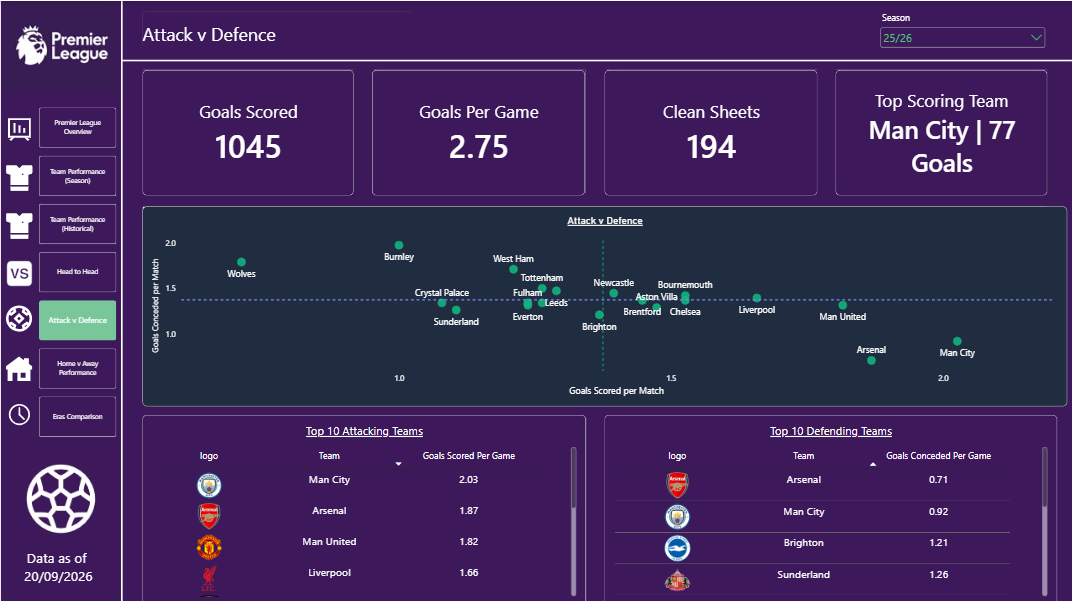

The dashboard page shown, as its layout file describes it:
{"tool":"powerbi","page":{"name":"Attack v Defence","canvas":[1920,1080],"ordinal":4},"visuals":[{"type":"slicer","fields":{"Values":["dim_season.season_name"]},"box":[1567.7,18.4,304.5,82.9],"z":7000},{"type":"textbox","box":[253.3,18.4,482.5,72.2],"z":8000},{"type":"cardVisual","fields":{"Data":["Sum(Season Analysis.GoalsFor)"]},"box":[253.7,123.5,377.2,225],"z":9000},{"type":"cardVisual","fields":{"Data":["MATCH_RESULTS.Goals Per Game"]},"box":[664.8,123.5,380.6,225],"z":10000},{"type":"cardVisual","fields":{"Data":["Sum(Season Analysis.CleanSheets)"]},"box":[1079.3,123.5,380.6,225],"z":11000},{"type":"cardVisual","fields":{"Data":["MATCH_RESULTS.Top Scoring Team"]},"box":[1492,123.5,378.9,225],"z":12000},{"type":"tableEx","title":"Top 10 Attacking Teams","fields":{"Values":["dim_team.logo","dim_team.team_name","Season Analysis.Goals_Per_Game"]},"box":[254,739.5,791.4,340.5],"z":13000},{"type":"scatterChart","title":"Attack v Defence","fields":{"Category":["Season Analysis.TEAM"],"X":["Season Analysis.Goals_Per_Game"],"Y":["Season Analysis.Goals_Conceded_Per_Game"]},"box":[254,367.1,1650.6,356.5],"z":14000},{"type":"tableEx","title":"Top 10 Defending Teams","fields":{"Values":["dim_team.logo","dim_team.team_name","Season Analysis.Goals_Conceded_Per_Game"]},"box":[1079.4,738.5,807.7,340.9],"z":15000},{"type":"textbox","box":[0,978.7,209,101.9],"z":15001},{"type":"pageNavigator","box":[69.2,188.9,138.3,594.5],"z":15002},{"type":"image","box":[0,292.6,69.2,46.6],"z":15003},{"type":"image","box":[0,377.7,69.2,46.6],"z":15004},{"type":"image","box":[0,206.2,69.2,46.6],"z":15005},{"type":"image","box":[0,544,68.6,46.7],"z":15006},{"type":"image","box":[0,634.4,68.6,46.7],"z":15007},{"type":"image","box":[0,715.6,69.2,46.9],"z":15008},{"type":"image","box":[0,462.9,69.2,46.9],"z":15009}]}

Visuals, with their boxes on the page's 1920x1080 design canvas (x1, y1, x2, y2). These are canvas units, not pixel positions in the 1072x601 screenshot, which may show the page scaled, cropped or inside an application window:
slicer - dim_season.season_name: [1568,18,1872,101]
textbox: [253,18,736,91]
cardVisual - Sum(Season Analysis.GoalsFor): [254,124,631,348]
cardVisual - MATCH_RESULTS.Goals Per Game: [665,124,1045,348]
cardVisual - Sum(Season Analysis.CleanSheets): [1079,124,1460,348]
cardVisual - MATCH_RESULTS.Top Scoring Team: [1492,124,1871,348]
"Top 10 Attacking Teams" tableEx: [254,740,1045,1080]
"Attack v Defence" scatterChart: [254,367,1905,724]
"Top 10 Defending Teams" tableEx: [1079,738,1887,1079]
textbox: [0,979,209,1081]
pageNavigator: [69,189,208,783]
image: [0,293,69,339]
image: [0,378,69,424]
image: [0,206,69,253]
image: [0,544,69,591]
image: [0,634,69,681]
image: [0,716,69,762]
image: [0,463,69,510]
